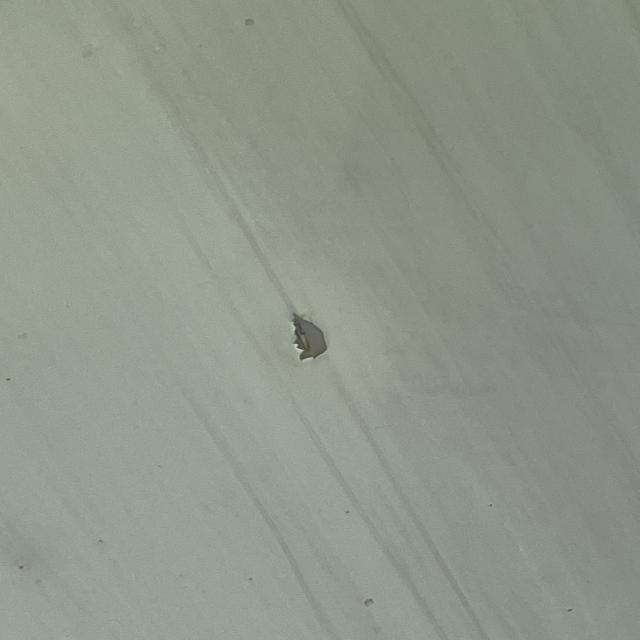crack: (282, 277, 342, 382)
